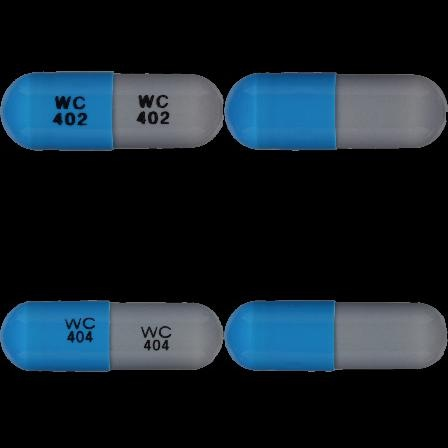67253-180: (0, 0, 224, 224)
